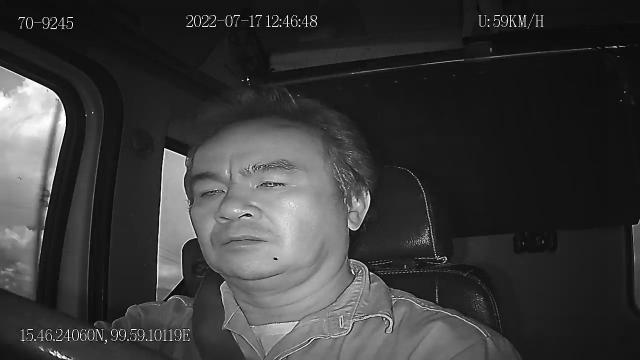SafeDriving: (249, 168, 296, 196), (192, 176, 230, 207)
Seatbelt: (190, 268, 248, 360)
